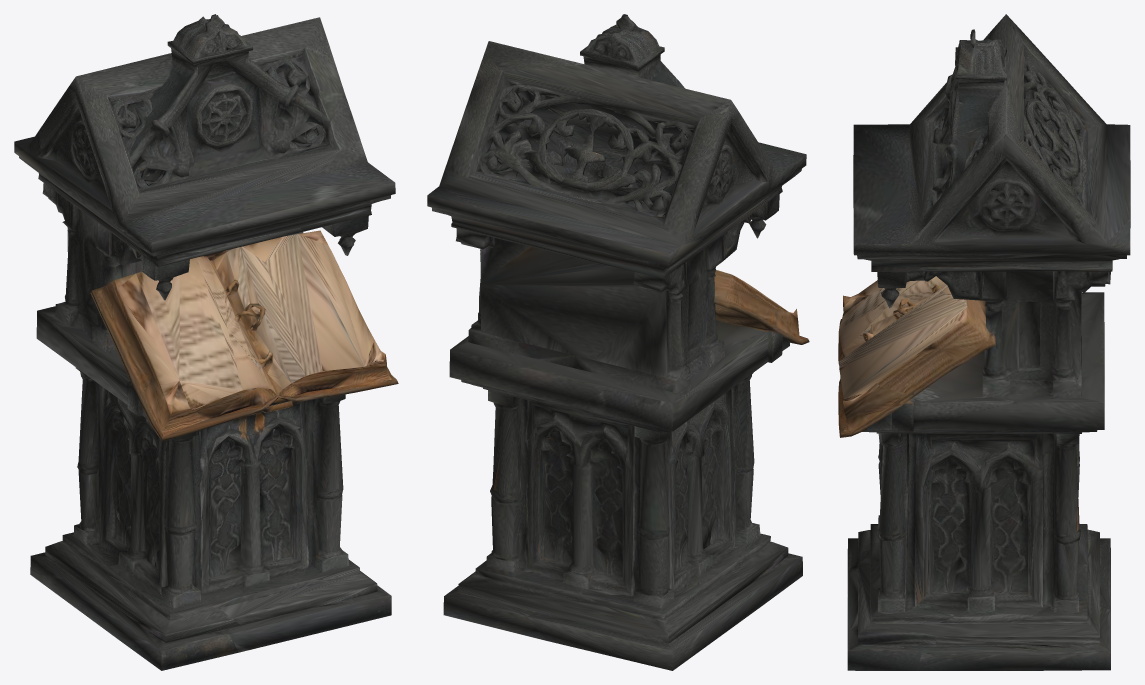
File: spell_tome.glb
The picture shows the model from 3 angles, left to right: view 1: azimuth 30°, elevation 25°; view 2: azimuth 150°, elevation 25°; view 3: azimuth 270°, elevation 25°; orthographic projection.
Visible parts, largest first — view 1: spell_tome; view 2: spell_tome; view 3: spell_tome.
Boxes of the visible parts, left/top/right/bottom form: spell_tome: left=14, top=14, right=398, bottom=670; spell_tome: left=427, top=14, right=809, bottom=670; spell_tome: left=838, top=14, right=1130, bottom=670.
Size of the model in its own units: 0.6512 by 1.48 by 0.6724.
Materials: 1 (1 with a texture image).
